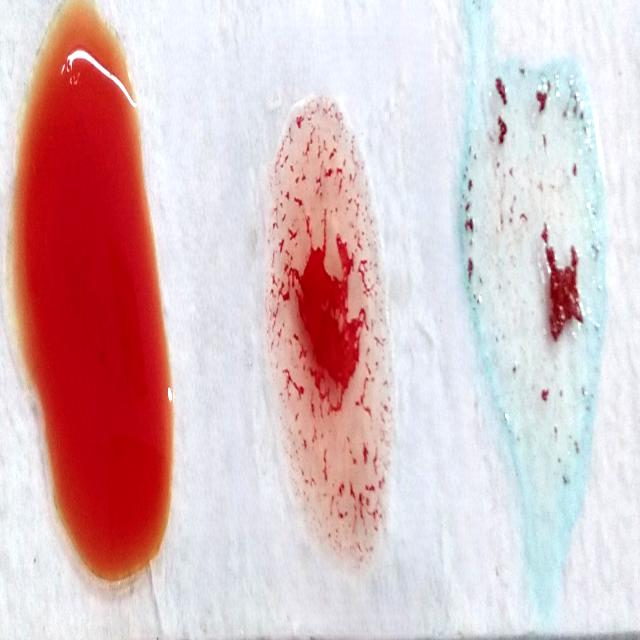A: (459, 34, 608, 596)
D: (268, 85, 389, 565)
